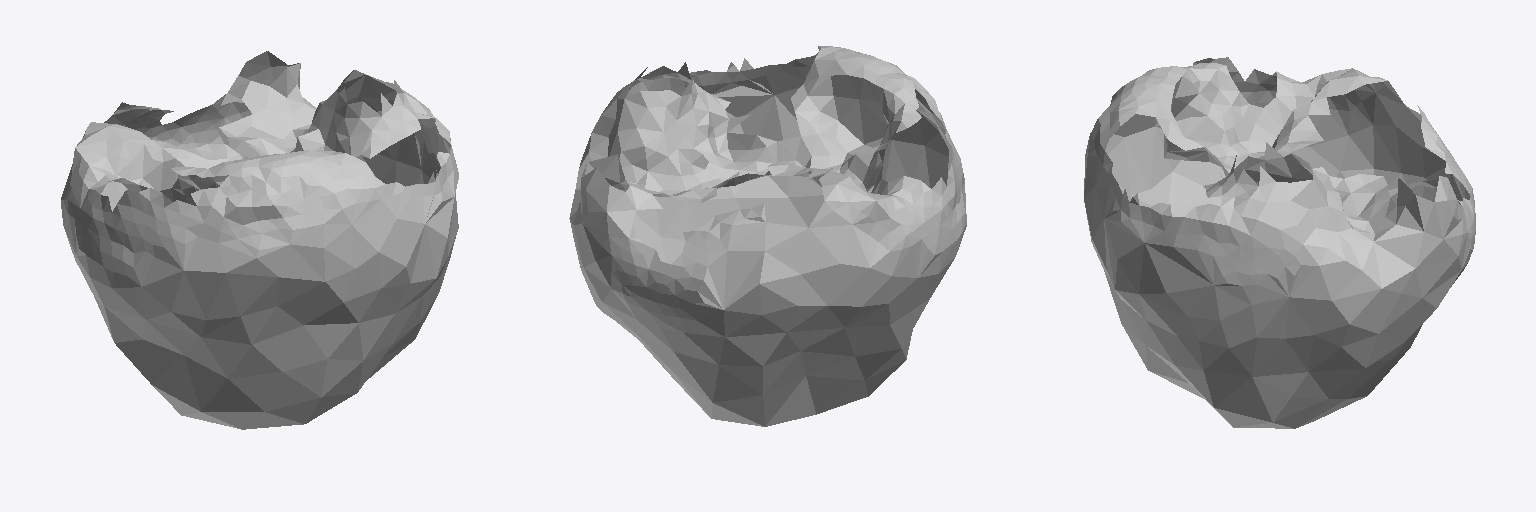
The model's file is island_2_stone.obj.
3 renders of one model, left to right at view 1: azimuth 30°, elevation 25°; view 2: azimuth 150°, elevation 25°; view 3: azimuth 270°, elevation 25°, orthographic.
Parts seen in each view (by area): view 1: rock group1; view 2: rock group1; view 3: rock group1.
Part boxes in pixels (x1,y1,x2,y2): rock group1: (61,51,458,429); rock group1: (569,46,966,426); rock group1: (1084,57,1475,428).
Size of the model in its own units: 14.64 by 12.64 by 14.46.